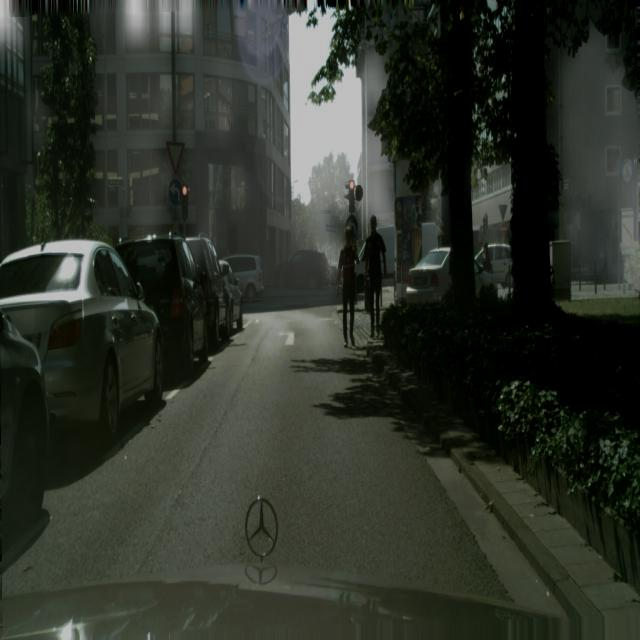person: (360, 216, 387, 339), (337, 225, 359, 347), (476, 239, 494, 285)
truck: (0, 238, 164, 446), (116, 232, 209, 382), (0, 306, 50, 555), (185, 235, 223, 350), (406, 246, 480, 299), (406, 246, 452, 294), (275, 250, 331, 289), (222, 253, 265, 302), (219, 260, 243, 337), (474, 242, 513, 284)
